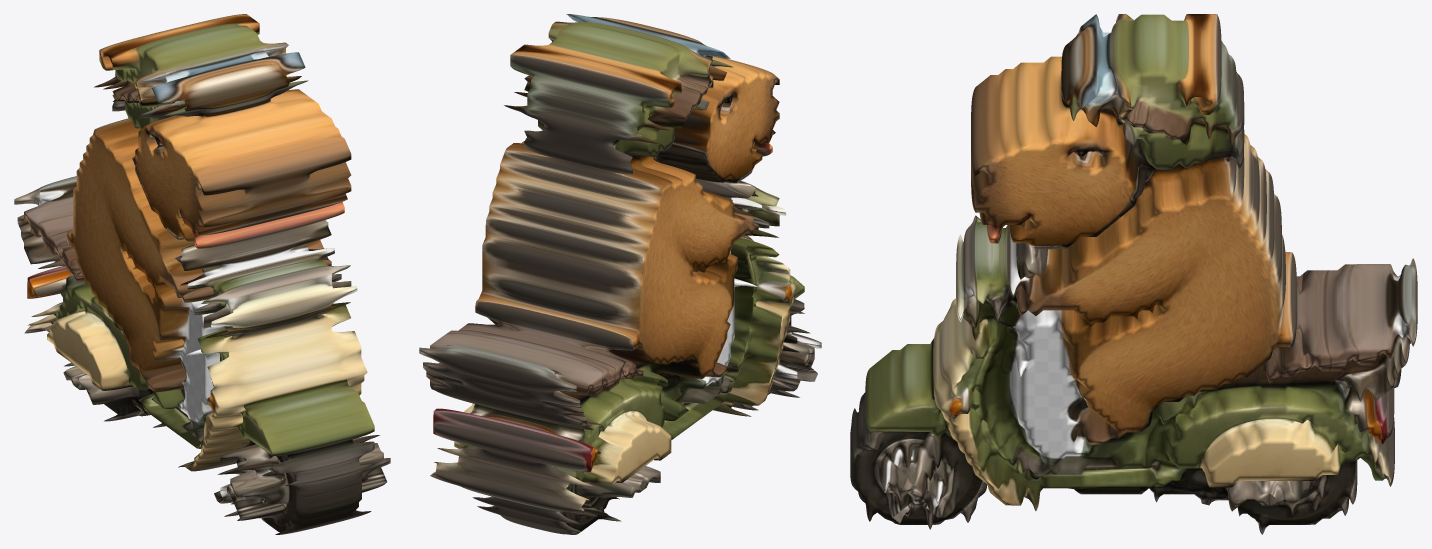
The model's file is capybara-image-generated.glb.
3 renders of one model, left to right at view 1: azimuth 30°, elevation 25°; view 2: azimuth 150°, elevation 25°; view 3: azimuth 270°, elevation 25°, orthographic. The views are drawn at different scales.
Parts seen in each view (by area): view 1: Image-generated original capybara rider; view 2: Image-generated original capybara rider; view 3: Image-generated original capybara rider.
Part boxes in pixels (left/top/right/bottom): Image-generated original capybara rider: left=14, top=14, right=390, bottom=534; Image-generated original capybara rider: left=419, top=14, right=821, bottom=534; Image-generated original capybara rider: left=850, top=14, right=1417, bottom=534.
Bounding box in the file's own units: 1.16 × 3.07 × 3.36.
1 material, 1 textured.
